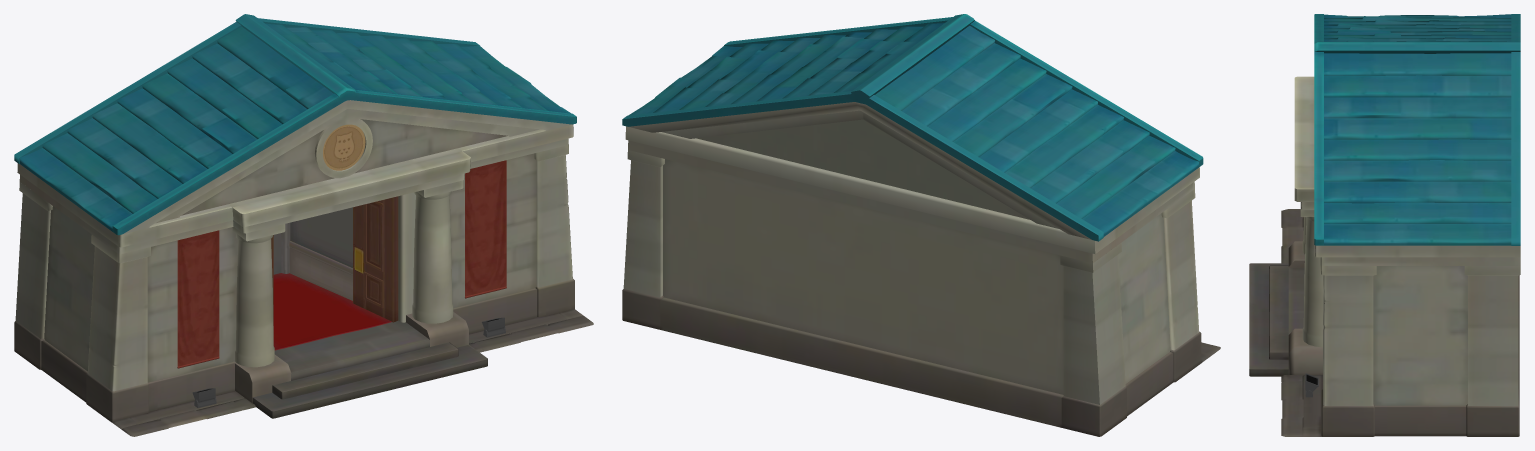
Rendered from museum.glb.
3 renders of one model, left to right at view 1: azimuth 30°, elevation 25°; view 2: azimuth 150°, elevation 25°; view 3: azimuth 270°, elevation 25°, orthographic. The views are drawn at different scales.
Size of the model in its own units: 67.58 by 38.94 by 34.13.
6 materials, 6 textured.
